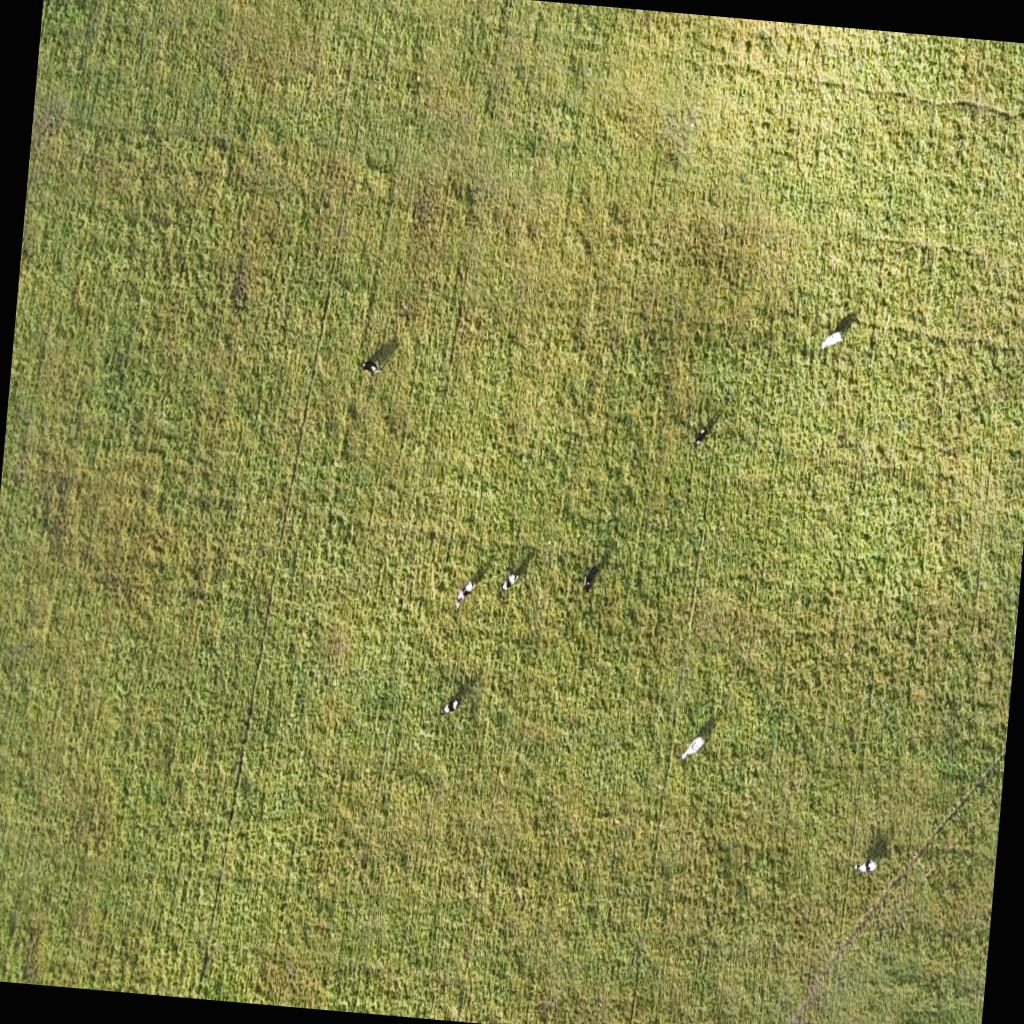cow: (680, 734, 704, 762), (692, 420, 714, 450), (454, 576, 474, 608), (820, 328, 844, 354), (500, 571, 516, 593), (855, 858, 877, 874), (440, 696, 458, 715), (365, 356, 383, 375), (582, 570, 594, 592)
